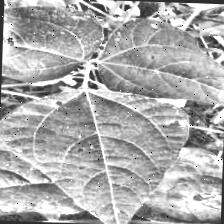ALS: (0, 85, 196, 224), (97, 16, 224, 117), (125, 146, 223, 224), (2, 9, 97, 78)
